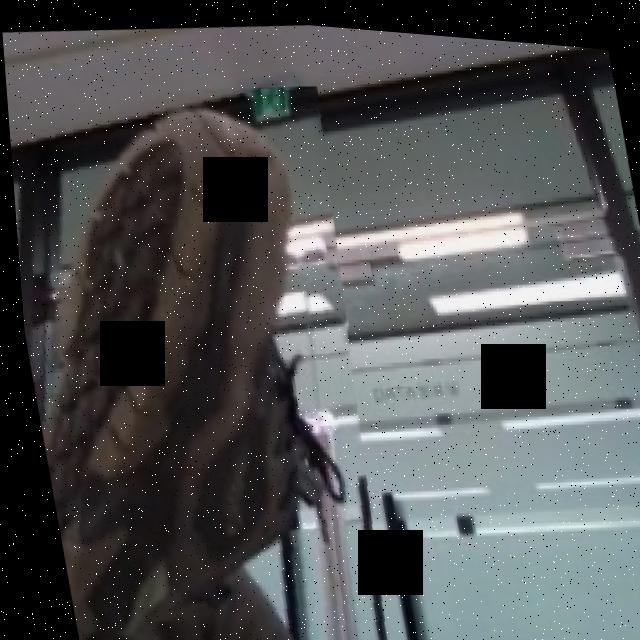shoe: (3, 60, 410, 640)
